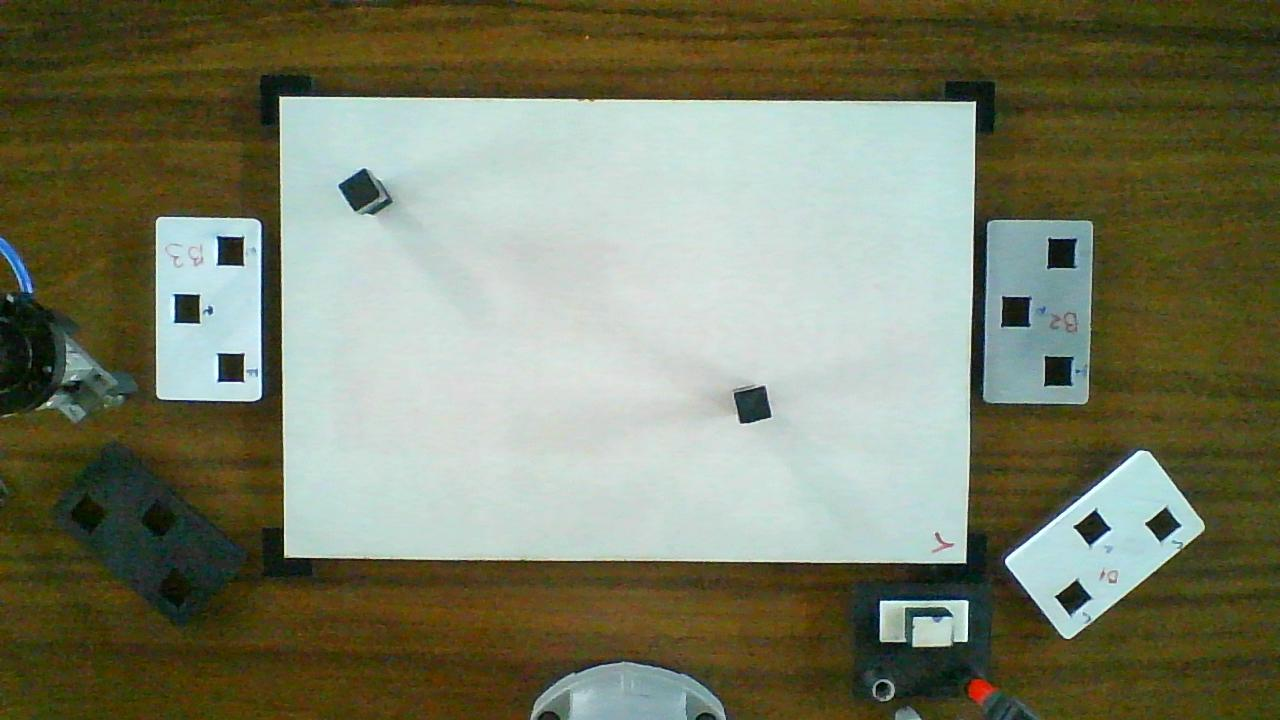peca_preta: (338, 169, 380, 212), (735, 387, 771, 423)
